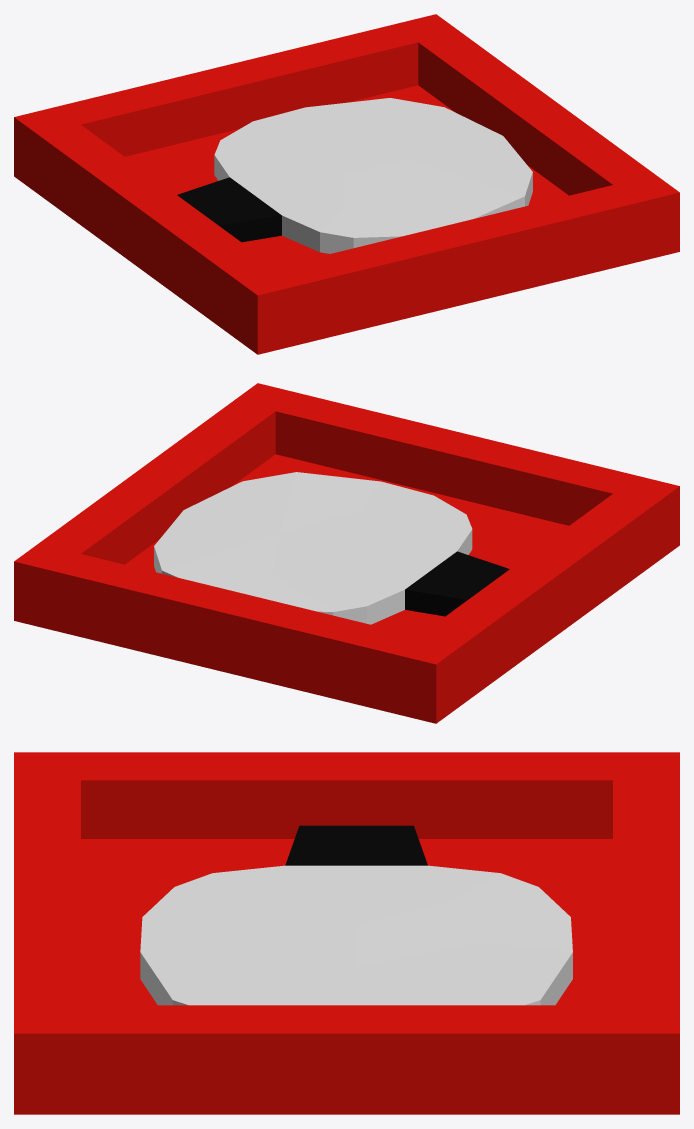
The model's file is Explosion.fbx.
3 views of the same model, one above another, from view 1: azimuth 30°, elevation 25°; view 2: azimuth 150°, elevation 25°; view 3: azimuth 270°, elevation 25° (orthographic). The views are drawn at different scales.
Parts seen in each view (by area): view 1: PickupBomb; view 2: PickupBomb; view 3: PickupBomb.
Part boxes in pixels (left/top/right/bottom): PickupBomb: left=14, top=14, right=679, bottom=354; PickupBomb: left=14, top=383, right=679, bottom=723; PickupBomb: left=14, top=752, right=679, bottom=1114.
Bounding box in the file's own units: 383 × 58.07 × 383.
